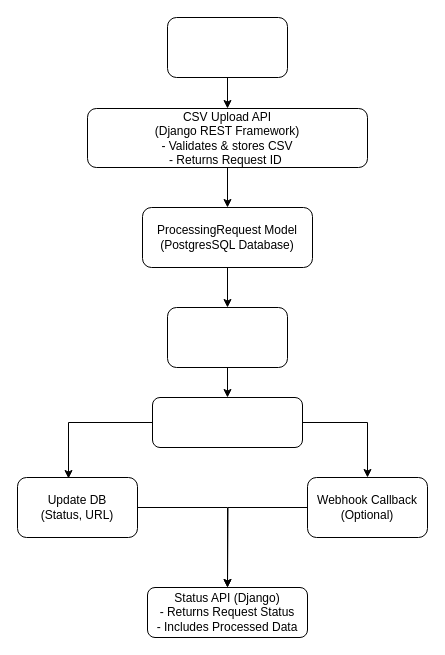
Image size: 445x655. Some labels were removed from this diagram. Here are the shapes that lost their labels. From the top down, the centre of each, then its label:
At point 227,47: "Client".
At point 227,337: "Celery Task Queue (Redis as Broker)".
At point 227,422: "process_csv_images Task (Image Processing)".
